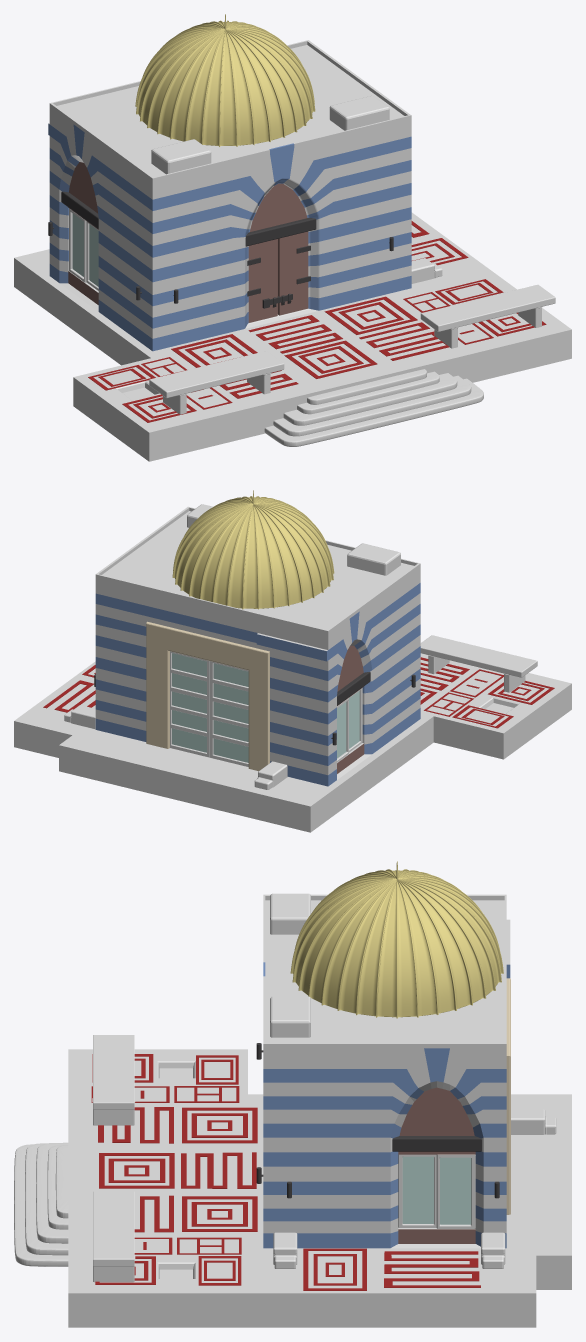
File: epcut.glb
3 renders of one model, top to bottom at view 1: azimuth 30°, elevation 25°; view 2: azimuth 150°, elevation 25°; view 3: azimuth 270°, elevation 25°, orthographic. The views are drawn at different scales.
Visible parts, largest first — view 1: Plane, Plane.001, Sphere, Plane.002, Cube.009, Cube.008, Cube.001_Material_0, Plane.008, Plane.015, Plane.014, Plane.012, Plane.013 (+9 smaller); view 2: Plane, Plane.001, Sphere, Plane.007, Cube.004, Cube.009, Cube.001_Material_0, Plane.008, Cube.007, Plane.016, Plane.011, Plane.023 (+2 smaller); view 3: Plane.001, Plane, Sphere, Plane.002, Plane.008, Cube.008, Cube.009, Cube.001_Material_0, Cube.007, Plane.023, Plane.014, Plane.006 (+9 smaller).
Boxes of the visible parts, left/top/right/bottom form: Plane: left=48, top=40, right=411, bottom=351; Plane.001: left=14, top=212, right=571, bottom=461; Sphere: left=135, top=20, right=315, bottom=146; Plane.002: left=264, top=369, right=483, bottom=446; Cube.009: left=149, top=351, right=284, bottom=414; Cube.008: left=420, top=284, right=555, bottom=348; Cube.001_Material_0: left=151, top=95, right=389, bottom=174; Plane.008: left=69, top=208, right=98, bottom=290; Plane.015: left=324, top=296, right=417, bottom=334; Plane.014: left=284, top=340, right=377, bottom=378; Plane.012: left=248, top=315, right=342, bottom=353; Plane.013: left=359, top=322, right=449, bottom=360; Plane: left=95, top=506, right=420, bottom=786; Plane.001: left=14, top=653, right=571, bottom=832; Sphere: left=172, top=496, right=334, bottom=609; Plane.007: left=170, top=651, right=248, bottom=766; Cube.004: left=146, top=621, right=269, bottom=771; Cube.009: left=420, top=635, right=537, bottom=692; Cube.001_Material_0: left=187, top=504, right=400, bottom=575; Plane.008: left=337, top=688, right=362, bottom=762; Cube.007: left=64, top=705, right=287, bottom=789; Plane.016: left=488, top=681, right=554, bottom=704; Plane.011: left=420, top=657, right=469, bottom=690; Plane.023: left=43, top=680, right=95, bottom=712; Plane.001: left=68, top=1049, right=571, bottom=1327; Plane: left=263, top=894, right=510, bottom=1248; Sphere: left=290, top=869, right=503, bottom=1018; Plane.002: left=14, top=1142, right=68, bottom=1266; Plane.008: left=398, top=1154, right=475, bottom=1228; Cube.008: left=92, top=1191, right=135, bottom=1282; Cube.009: left=92, top=1035, right=135, bottom=1125; Cube.001_Material_0: left=270, top=893, right=310, bottom=1037; Cube.007: left=273, top=1109, right=556, bottom=1268; Plane.023: left=384, top=1251, right=480, bottom=1287; Plane.014: left=99, top=1153, right=174, bottom=1188; Plane.006: left=182, top=1107, right=257, bottom=1143.
Bounding box in the file's own units: 673 × 446 × 651.
